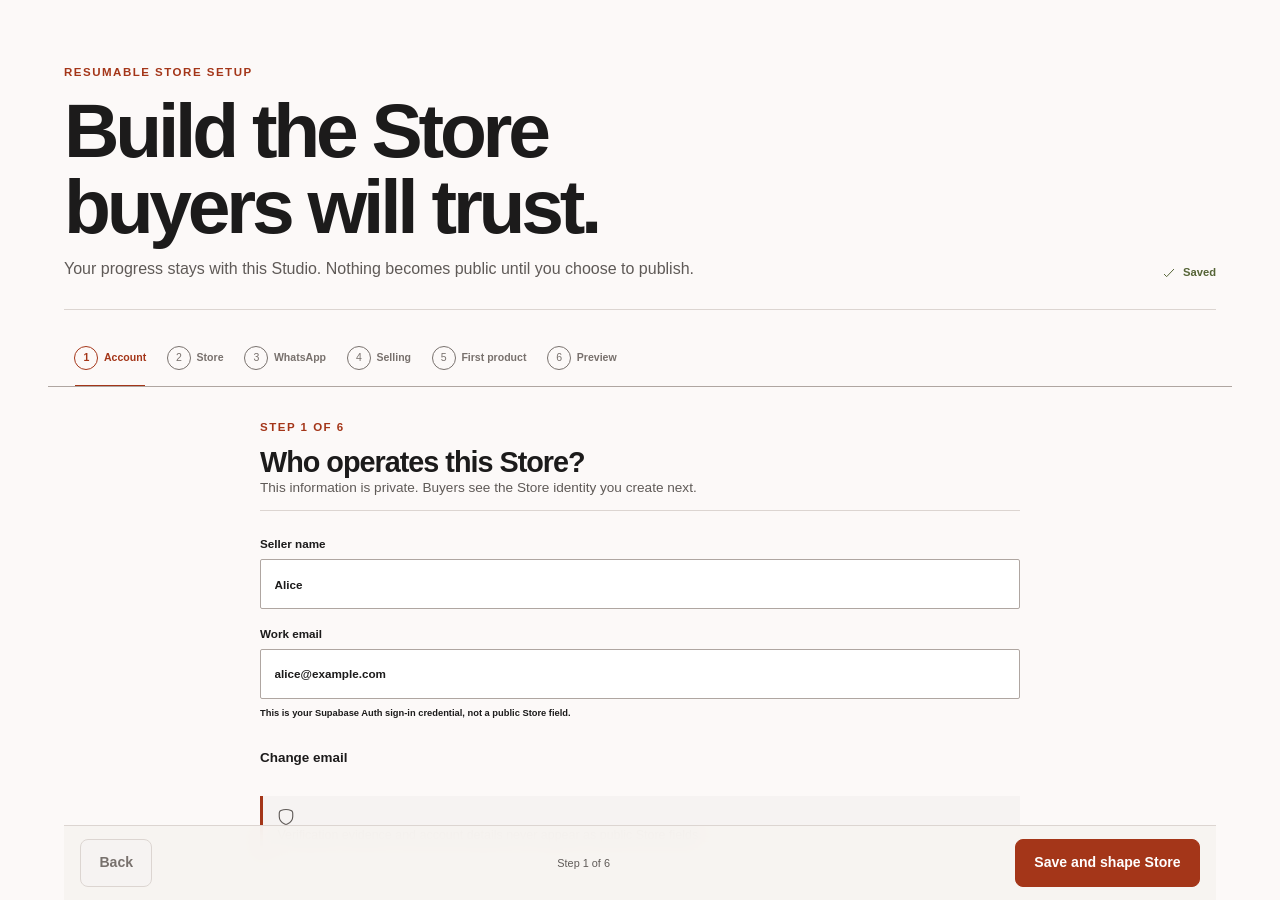
seller onboarding › advances only after one authoritative Account save succeeds
Click the button "Save and shape Store" at (1107,863), box [1015,839,1200,887]
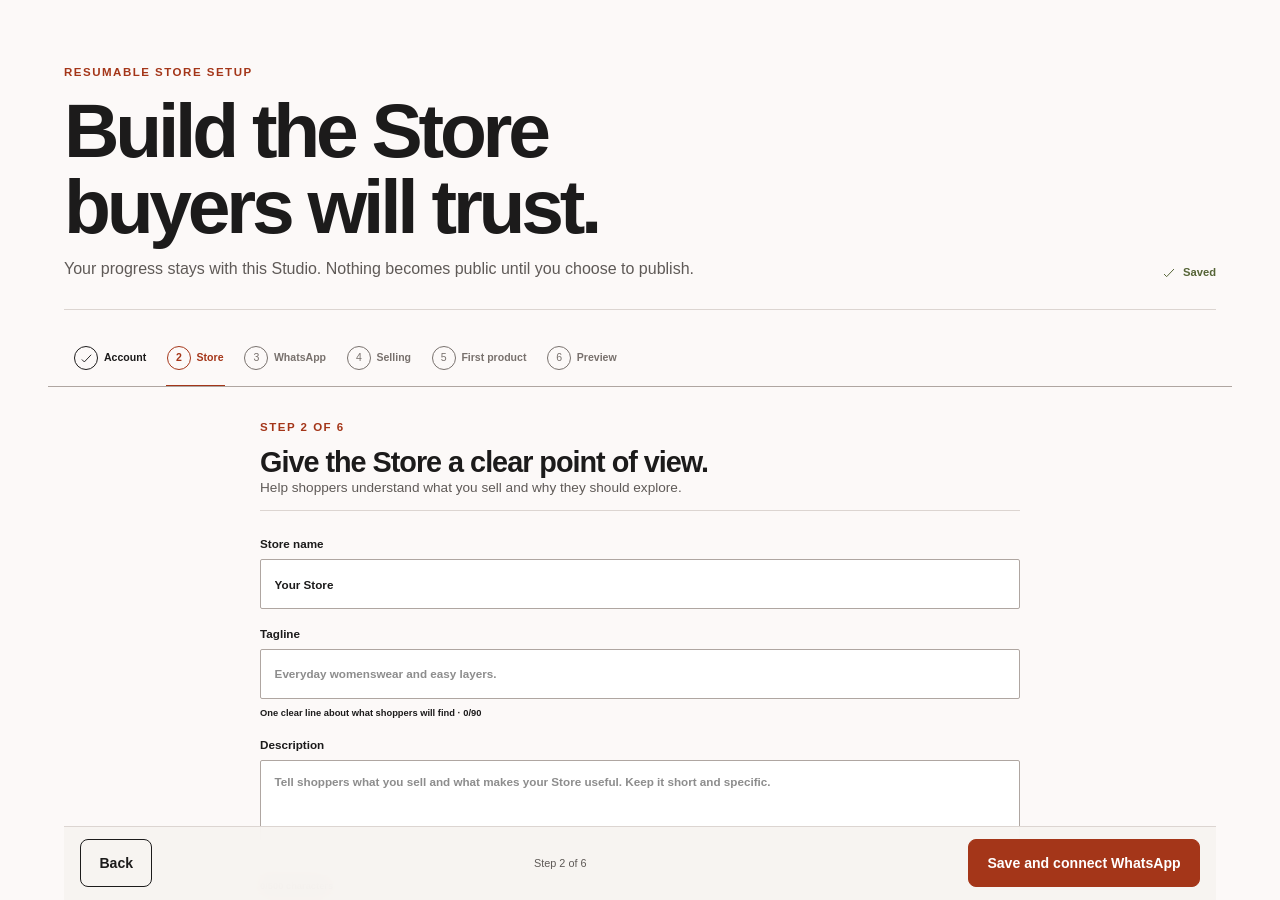
expect the heading "Give the Store a clear point of view." is shown: met, box [260,446,708,478]
